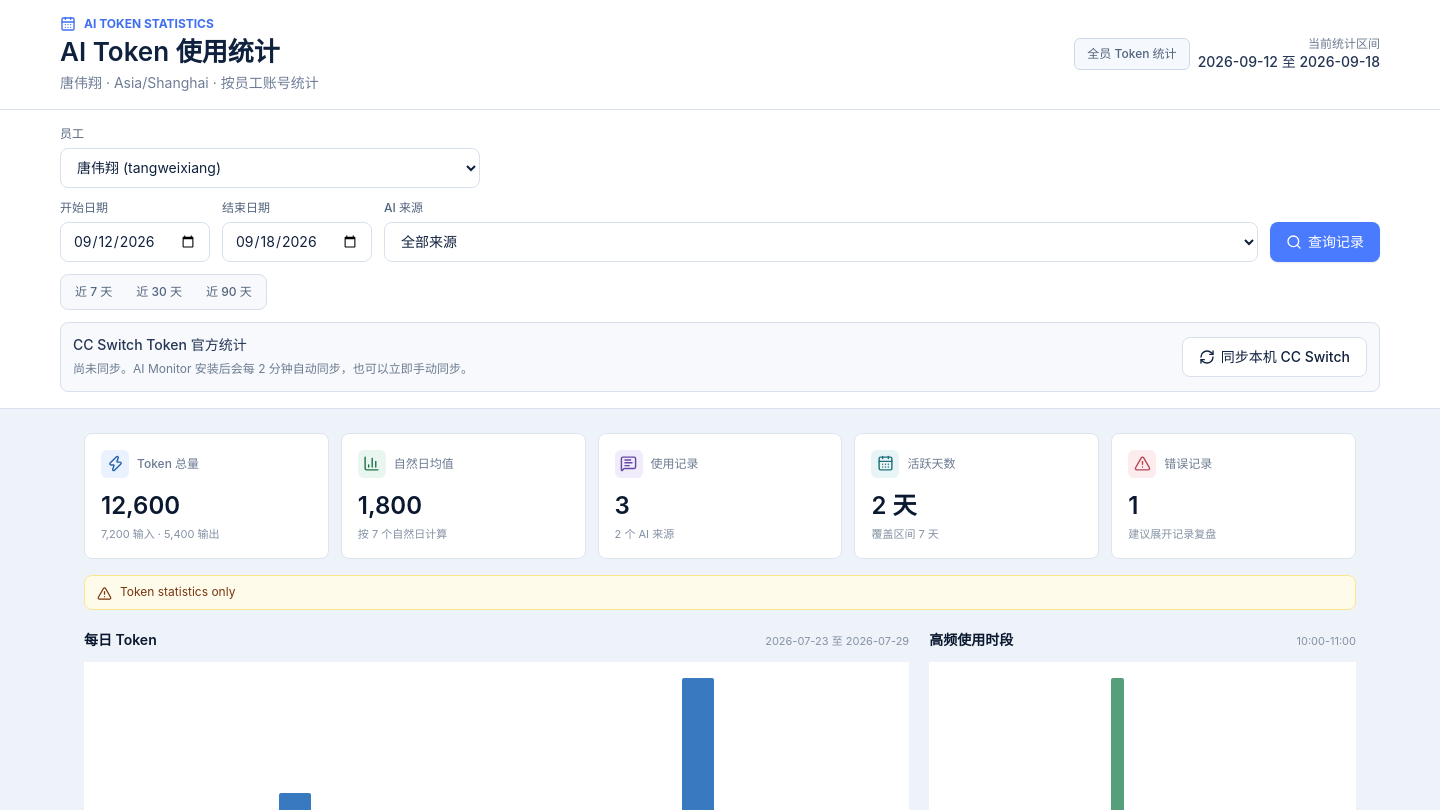
WorkdayPage › lets regular users select another employee but only shows token statistics
Expected: the heading "AI Token 使用统计" is shown, [60, 36, 280, 67]
Expected: the text "12,600" is shown, [101, 490, 180, 520]
Select "Test 2 (test2)" in the dropdown labelled "员工". click: coordinates (270, 168)
box: [60, 148, 480, 188]
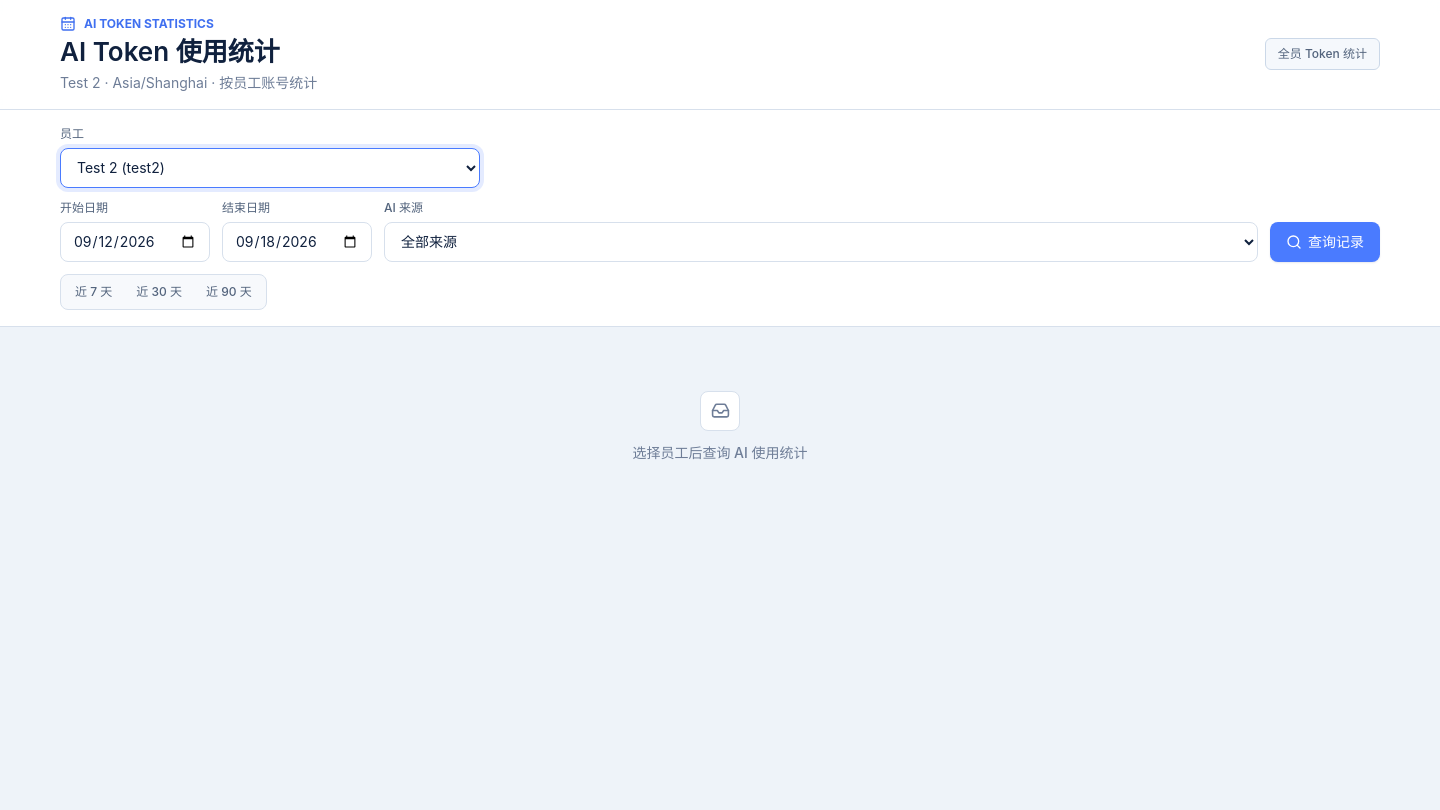
Expected: the button "同步本机 CC Switch" is gone
